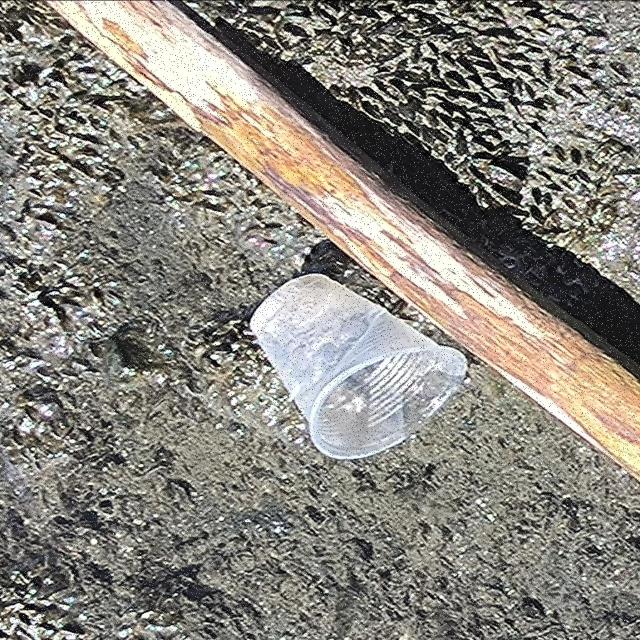plastic_waste: (249, 273, 470, 461)
